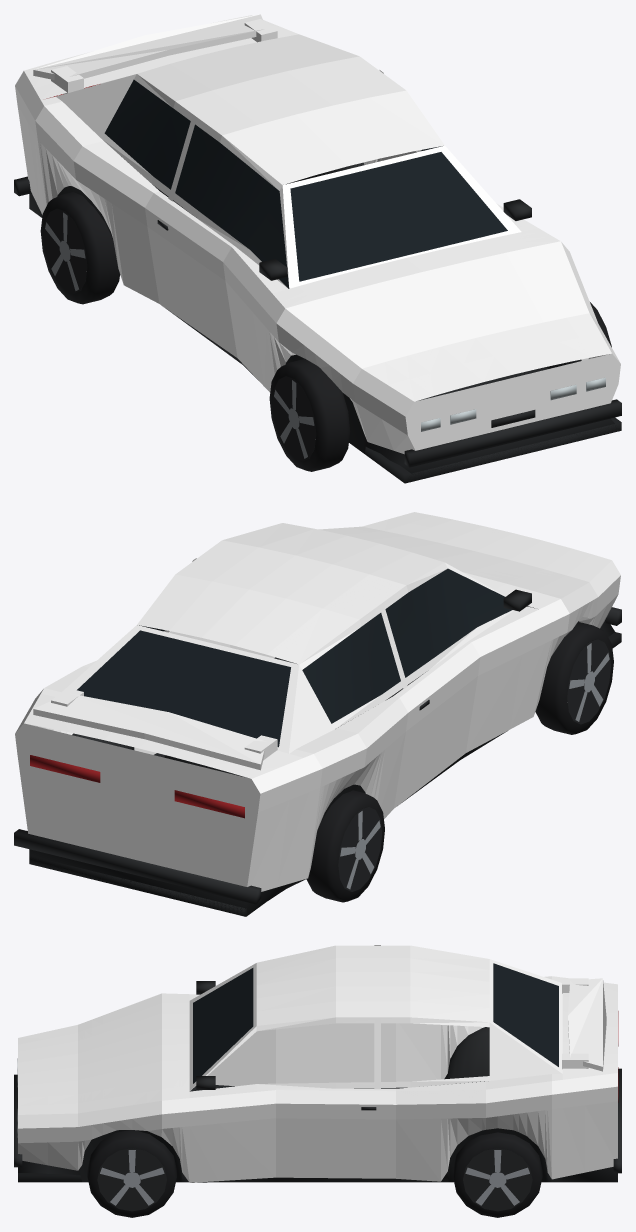
Rendered from hozuki_escama.glb.
3 views of the same model, one above another, from view 1: azimuth 30°, elevation 25°; view 2: azimuth 150°, elevation 25°; view 3: azimuth 270°, elevation 25° (orthographic). The views are drawn at different scales.
Parts seen in each view (by area): view 1: Body_Paint, Body_Details, Mount_FrontLeft_Wheel_Details, Mount_RearLeft_Wheel_Details; view 2: Body_Paint, Body_Details, Mount_RearLeft_Wheel_Details, Mount_FrontLeft_Wheel_Details; view 3: Body_Paint, Body_Details, Mount_FrontRight_Wheel_Details, Mount_RearRight_Wheel_Details.
Boxes of the visible parts, box(x1,y1,x2,y2) form: Body_Paint: box(15, 14, 620, 454); Body_Details: box(14, 79, 621, 483); Mount_FrontLeft_Wheel_Details: box(269, 359, 350, 471); Mount_RearLeft_Wheel_Details: box(40, 192, 119, 304); Body_Paint: box(15, 512, 620, 891); Body_Details: box(14, 568, 621, 916); Mount_RearLeft_Wheel_Details: box(306, 790, 384, 902); Mount_FrontLeft_Wheel_Details: box(535, 622, 613, 734); Body_Paint: box(18, 945, 617, 1182); Body_Details: box(14, 963, 621, 1182); Mount_FrontRight_Wheel_Details: box(87, 1130, 176, 1217); Mount_RearRight_Wheel_Details: box(453, 1132, 542, 1217).
Size of the model in its own units: 1.83 by 1.36 by 4.07.
Materials: 2 (1 with a texture image).
